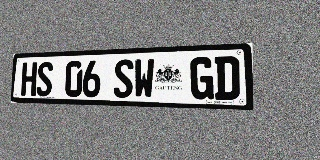0: (65, 61, 83, 97)
6: (82, 60, 101, 97)
D: (215, 56, 240, 100)
G: (190, 57, 214, 100)
H: (21, 62, 37, 96)
S: (113, 59, 134, 98), (36, 62, 53, 96)
W: (134, 59, 155, 98)
